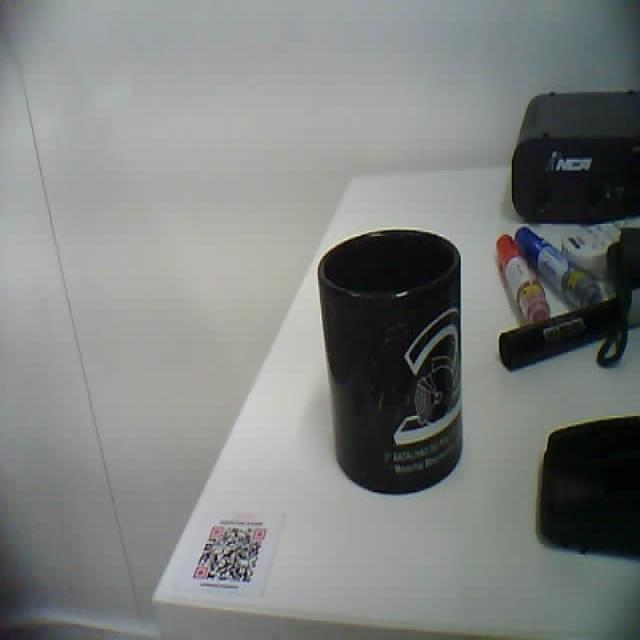caneca: (319, 229, 461, 492)
